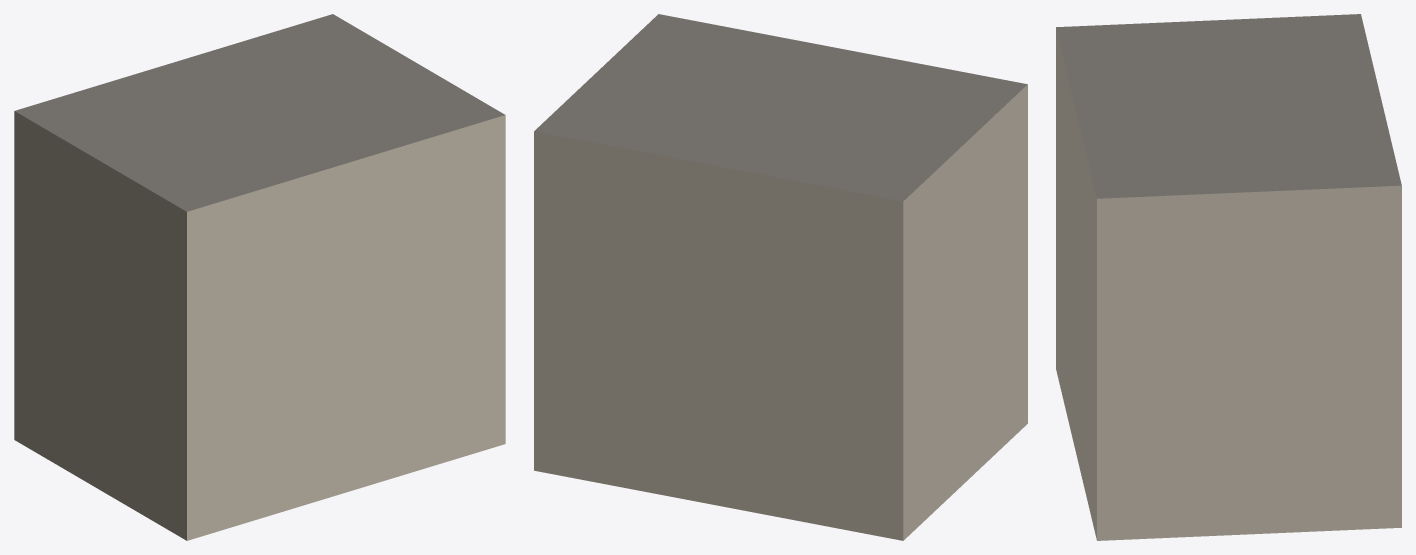
The picture shows the model from 3 angles, left to right: view 1: azimuth 30°, elevation 25°; view 2: azimuth 150°, elevation 25°; view 3: azimuth 270°, elevation 25°; orthographic projection. The views are drawn at different scales.
Visible parts, largest first — view 1: HP-w293504481; view 2: HP-w293504481; view 3: HP-w293504481.
Part boxes in pixels (x1,y1,x2,y2): HP-w293504481: (14,14,505,540); HP-w293504481: (534,14,1027,540); HP-w293504481: (1056,14,1401,540).
Size of the model in its own units: 20.85 by 18 by 16.49.
